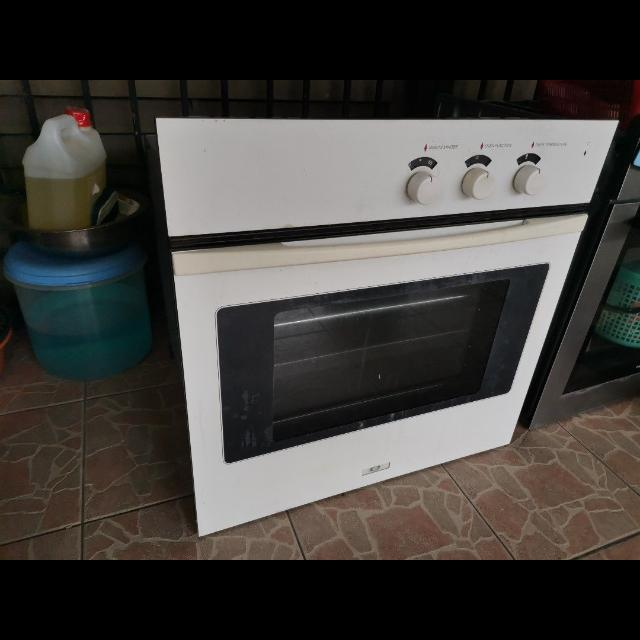Oven: (160, 109, 586, 519)
